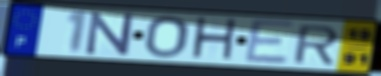1: (64, 9, 91, 55)
E: (243, 17, 297, 65)
H: (188, 15, 240, 64)
N: (84, 11, 135, 57)
O: (142, 15, 191, 59)
R: (291, 24, 341, 66)
